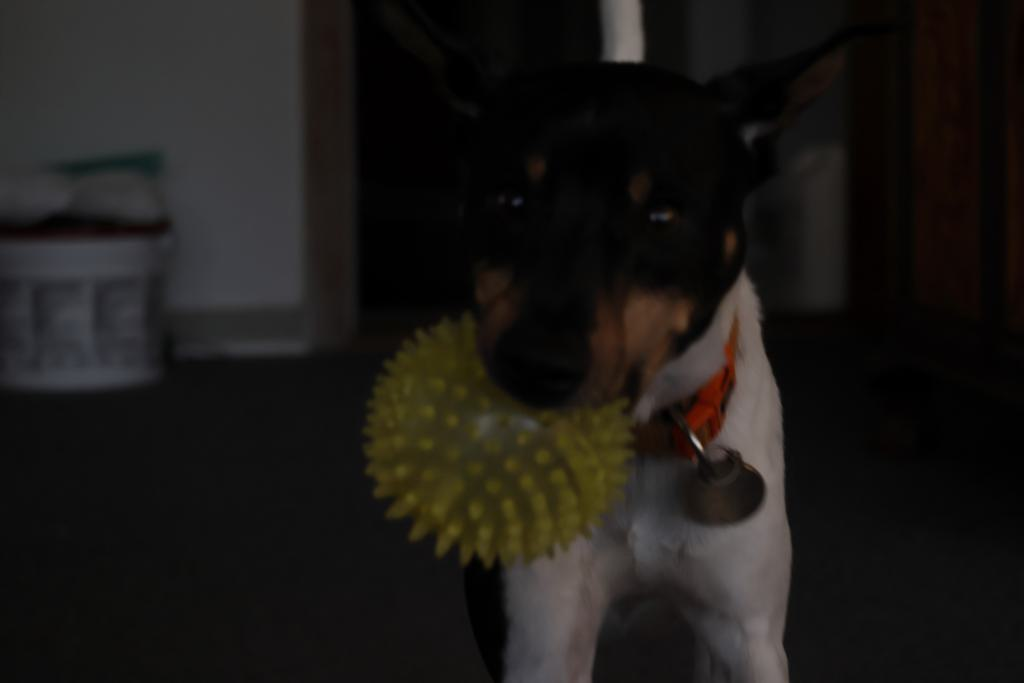Dog: (336, 0, 859, 683)
